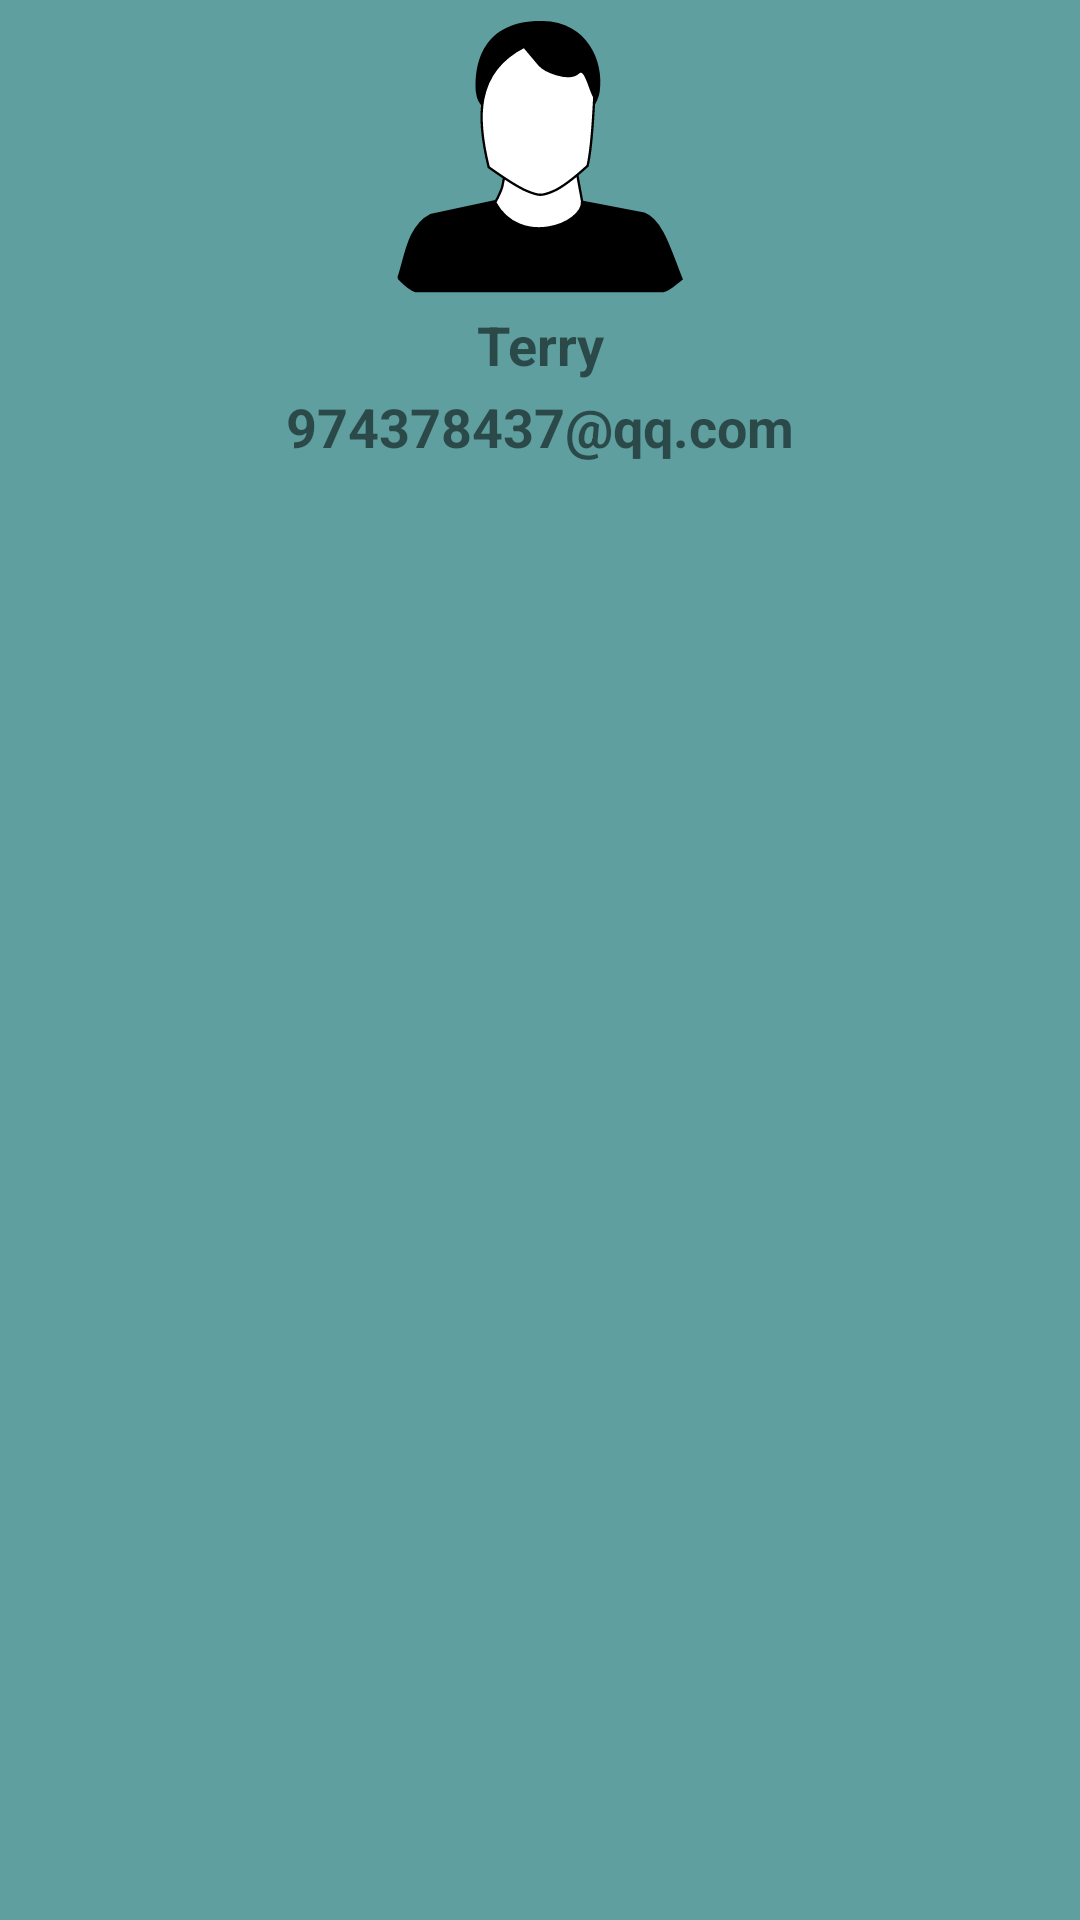

Where to tap for icons on this 1080×1920 app screen, as point (x, y):
user: point (540, 157)
